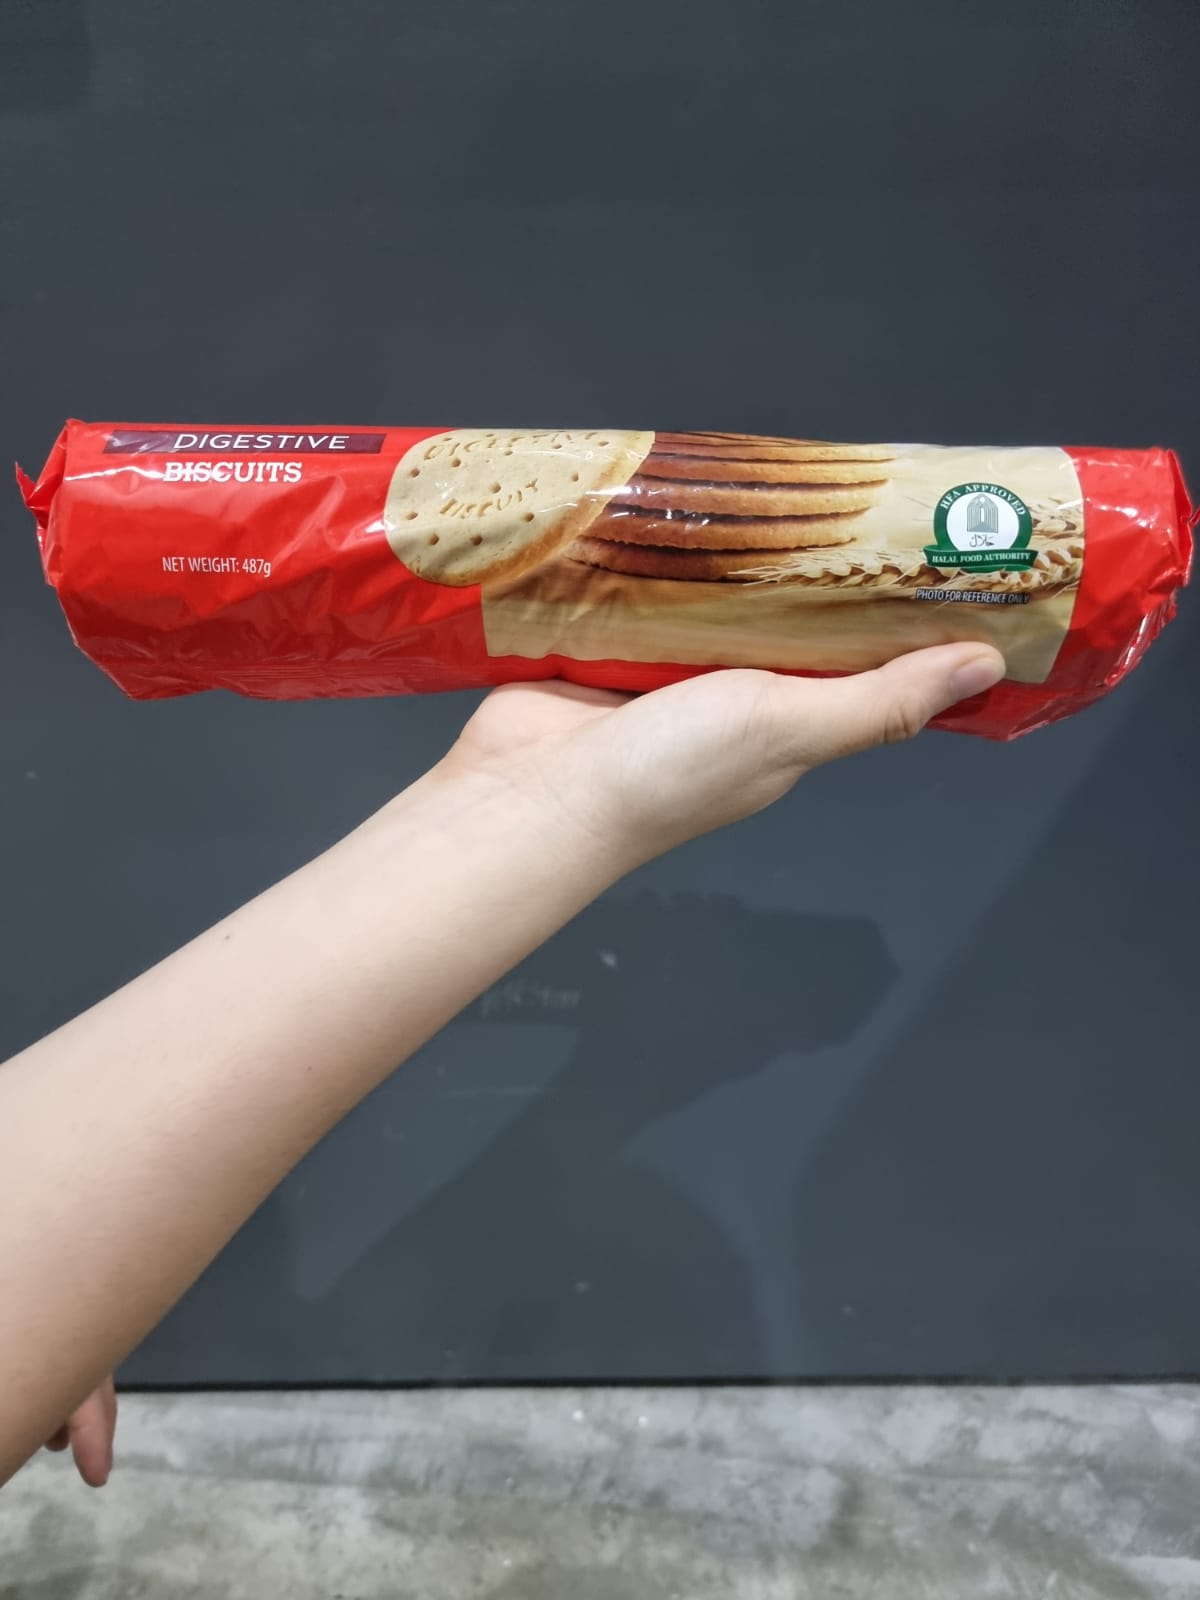Biscuits: (92, 433, 1128, 683)
